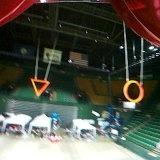Orange_Circle_GShape: (124, 80, 144, 102)
Orange_Triangle_Gshape: (31, 78, 50, 96)
